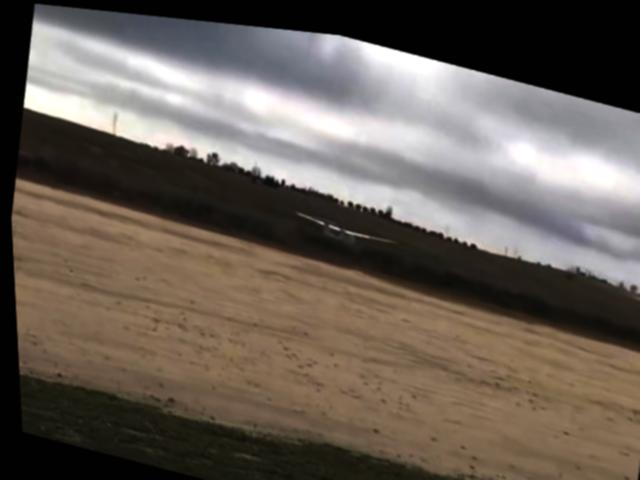iha: (295, 206, 390, 247)
